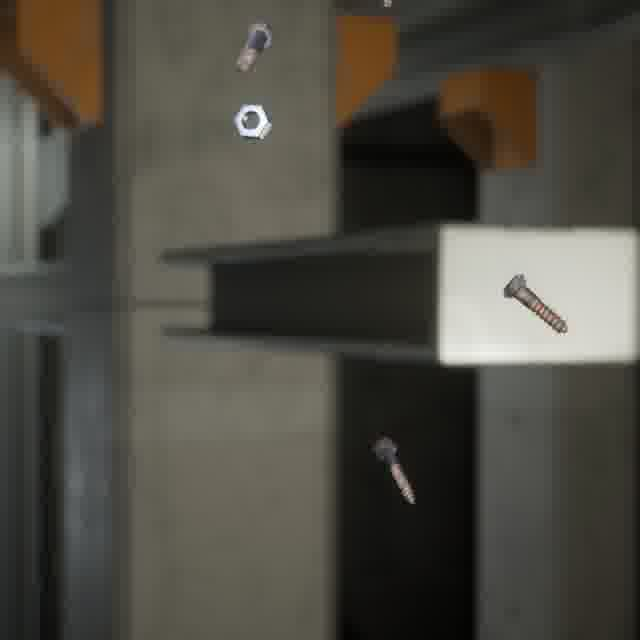bolt: (497, 268, 572, 338), (369, 433, 419, 508), (230, 16, 279, 78)
nut: (229, 100, 276, 143)
